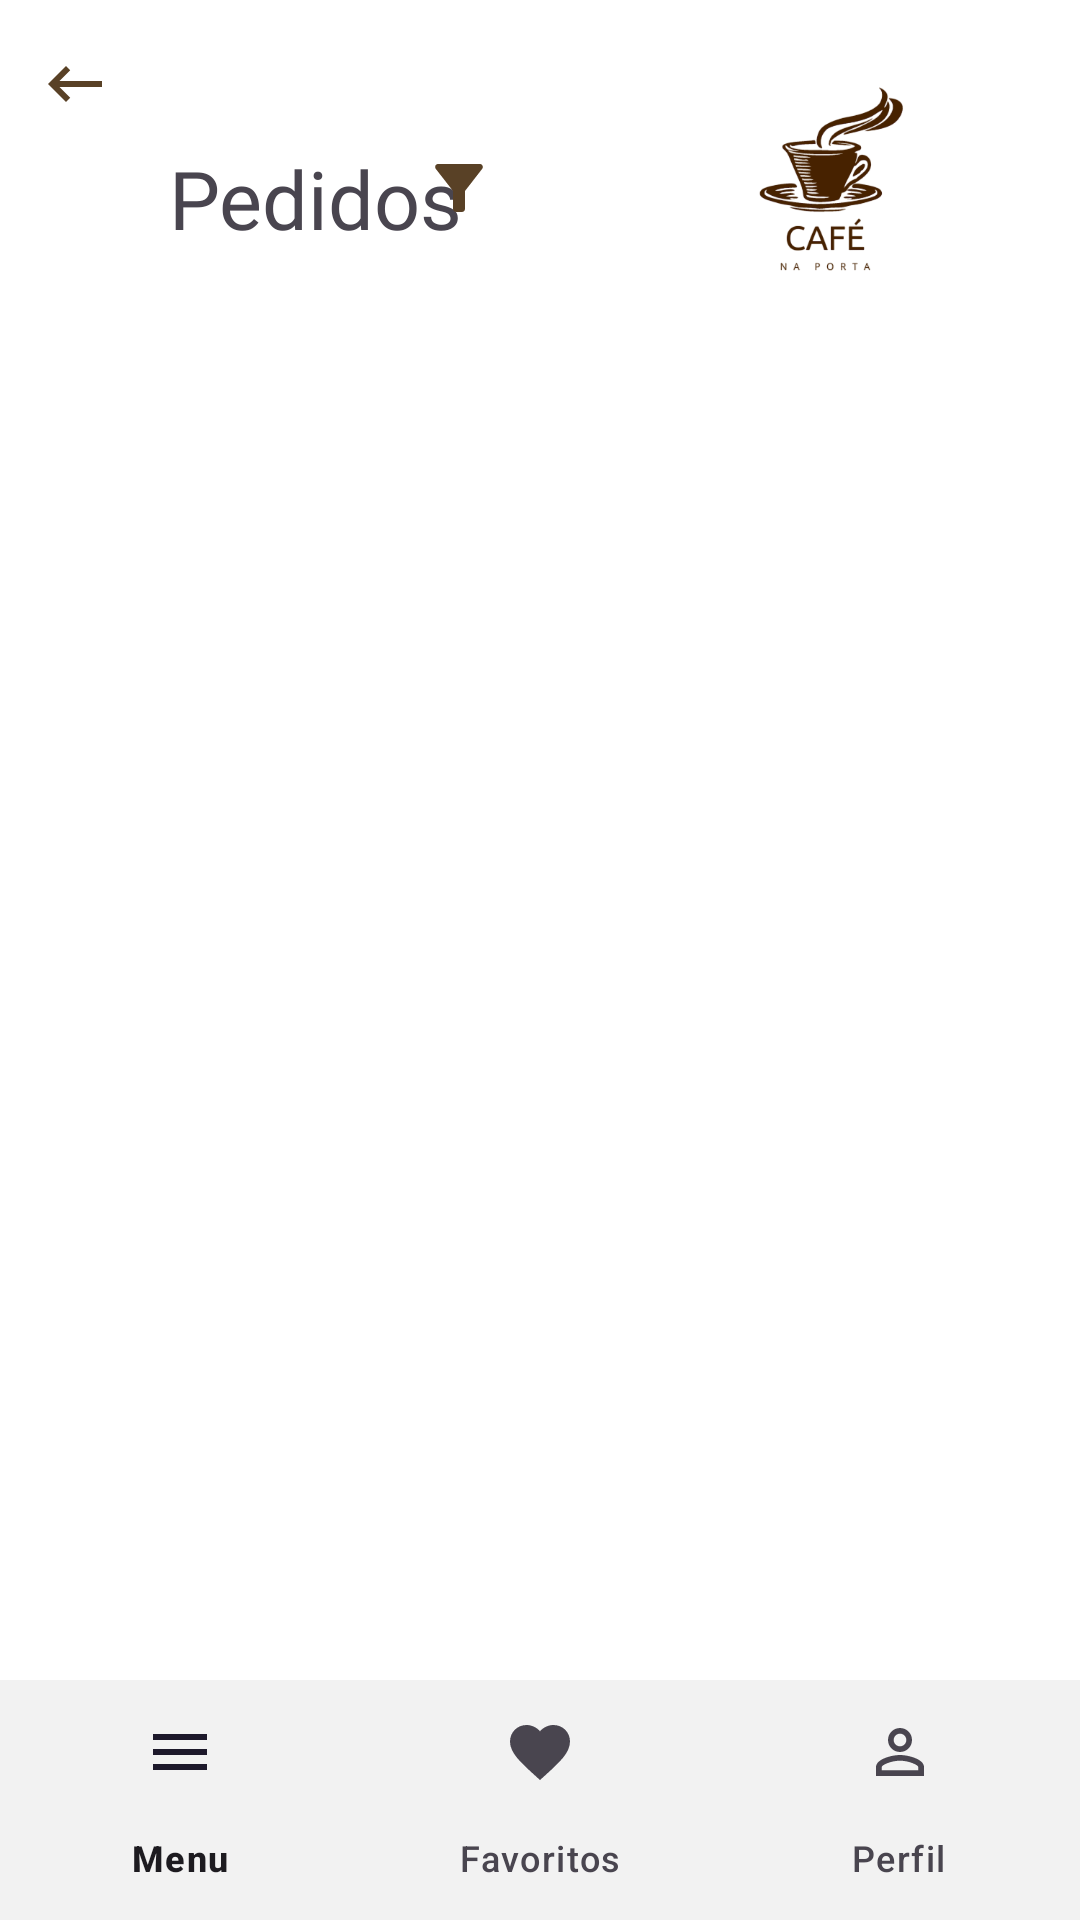

Icon bounding boxes for this 1080 × 1920 phone screenshot, format BBox(x1, y1, x2, y2):
keyboard backspace: BBox(48, 66, 102, 102)
